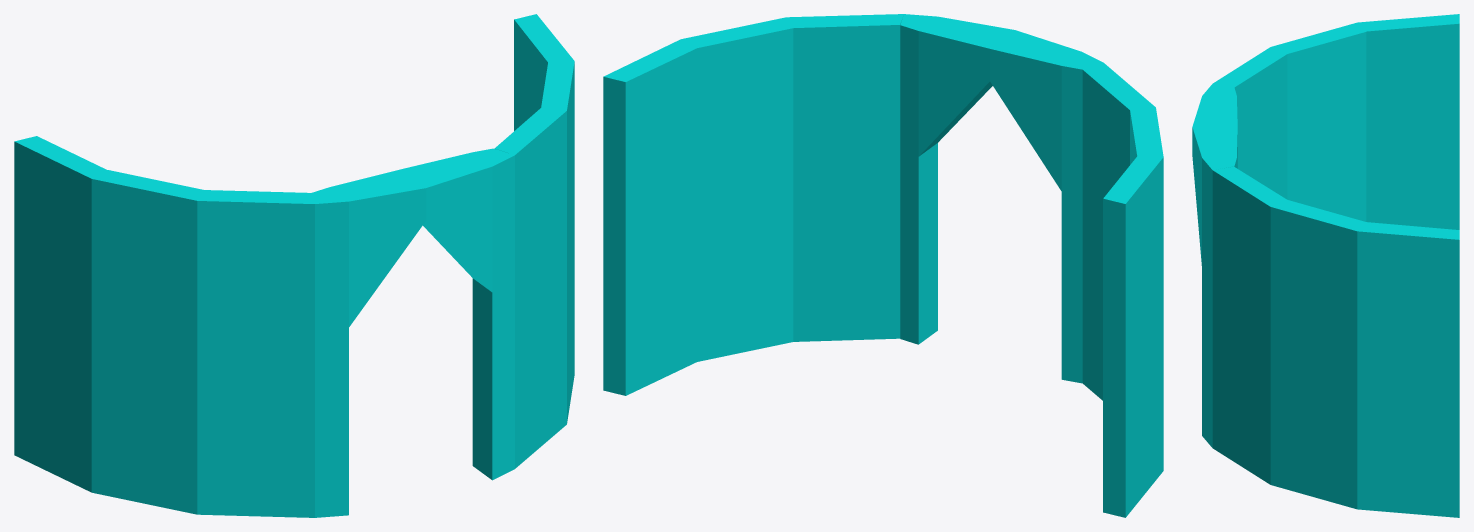
The model's file is SM_Bld_Wall_Doorway_Curved_Double_01_Collision.fbx.
The picture shows the model from 3 angles, left to right: view 1: azimuth 30°, elevation 25°; view 2: azimuth 150°, elevation 25°; view 3: azimuth 270°, elevation 25°; orthographic projection. The views are drawn at different scales.
Parts seen in each view (by area): view 1: SM_Bld_Wall_Doorway_Curved_Double_01_Collision; view 2: SM_Bld_Wall_Doorway_Curved_Double_01_Collision; view 3: SM_Bld_Wall_Doorway_Curved_Double_01_Collision.
Part boxes in pixels (bbox=[...]): SM_Bld_Wall_Doorway_Curved_Double_01_Collision: bbox=[14, 14, 574, 517]; SM_Bld_Wall_Doorway_Curved_Double_01_Collision: bbox=[603, 14, 1163, 517]; SM_Bld_Wall_Doorway_Curved_Double_01_Collision: bbox=[1192, 14, 1459, 517].
Size of the model in its own units: 523 by 300 by 261.
